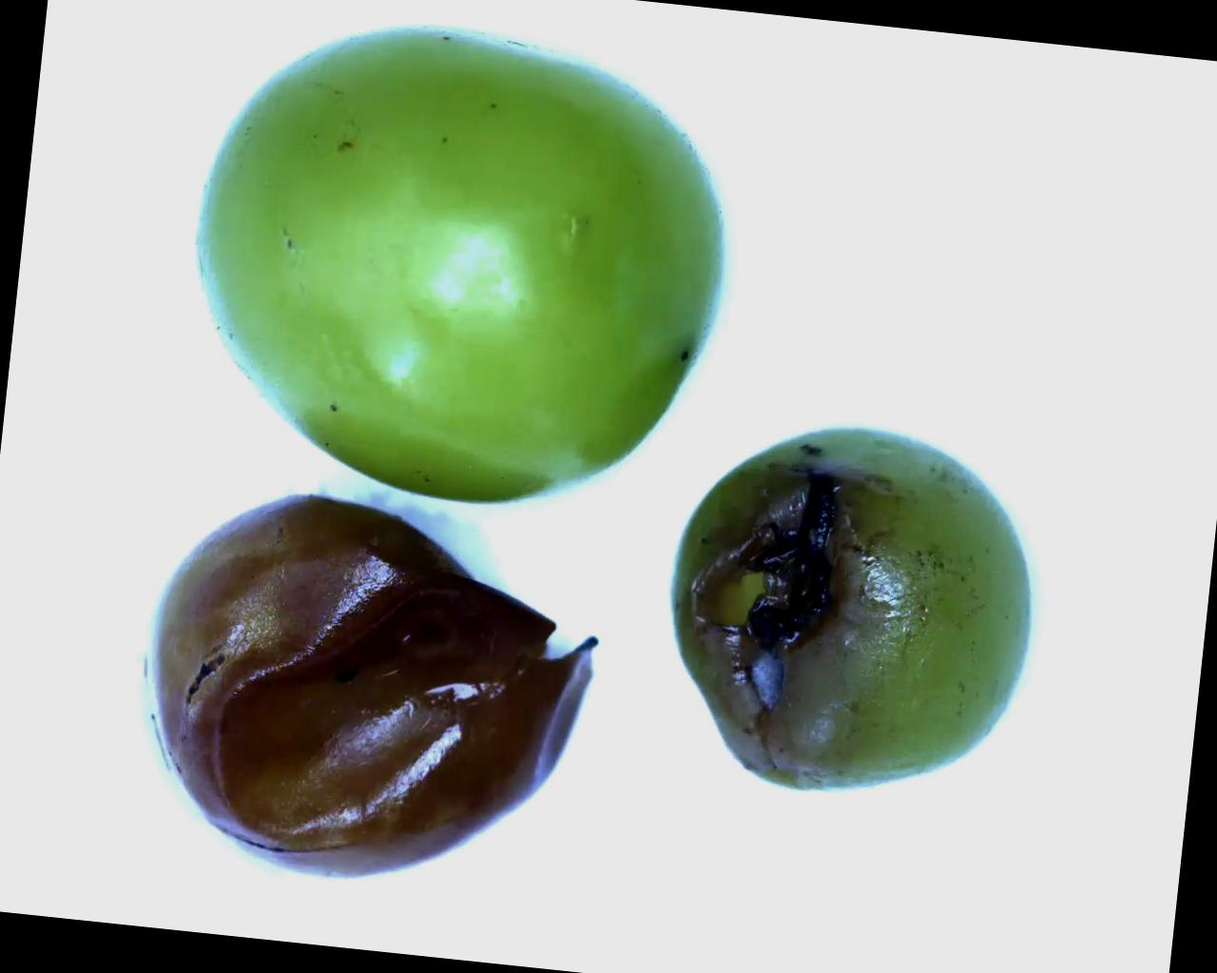Grape Rotten: (121, 474, 614, 903), (649, 405, 1053, 814)
Grape Unripe: (193, 0, 732, 511)
